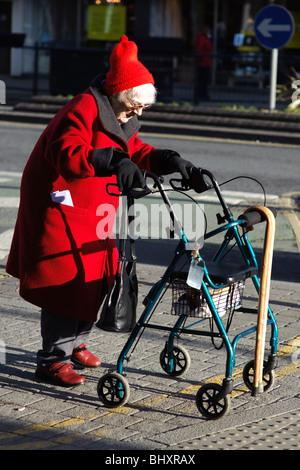walking_frame: (6, 35, 278, 419)
